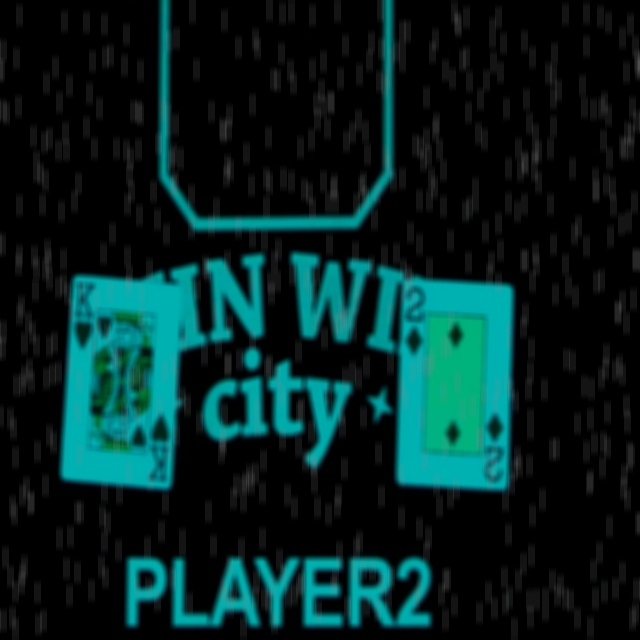2D: (402, 282, 428, 357), (484, 410, 510, 483)
KH: (147, 411, 177, 489), (71, 281, 98, 355)
